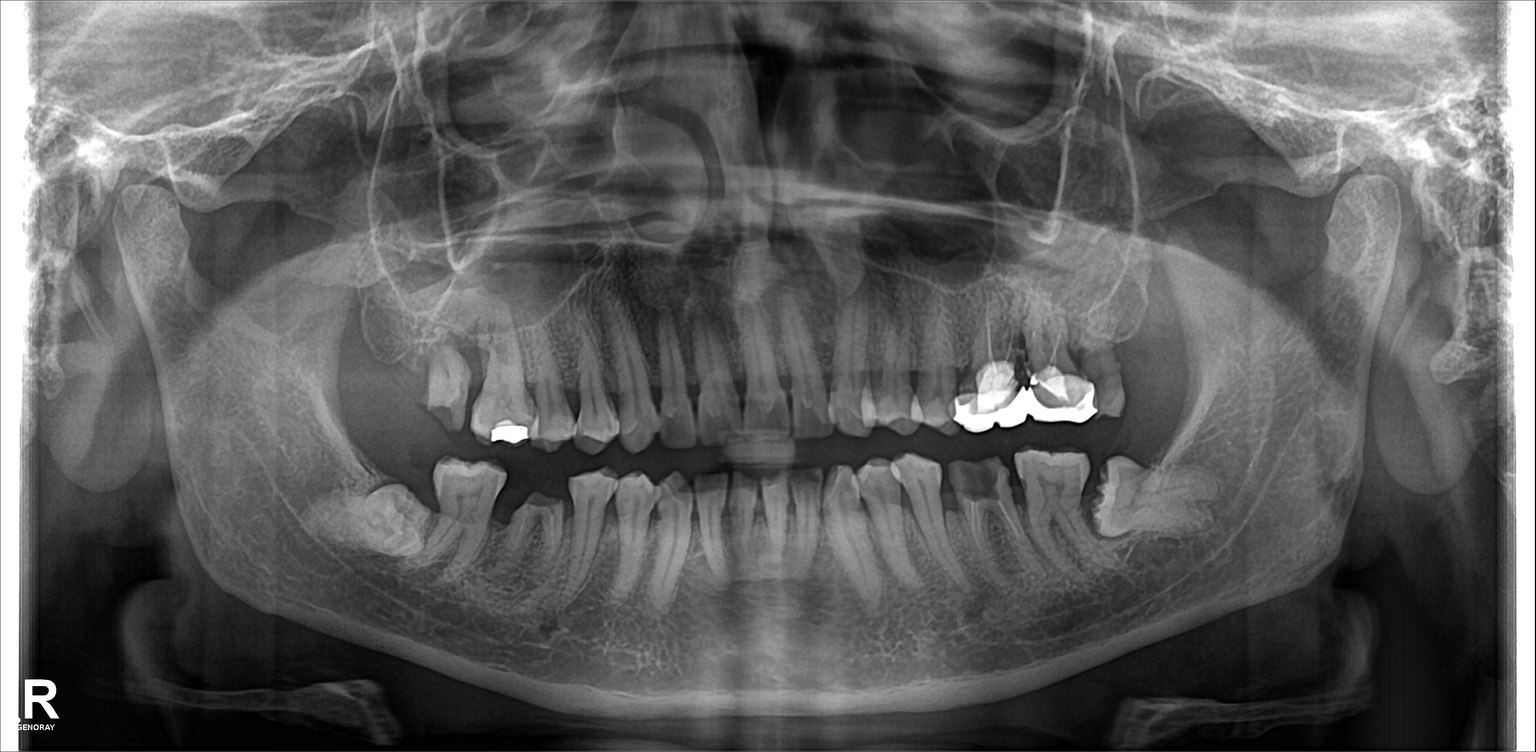Dental Caries: (948, 465, 1007, 508), (747, 396, 788, 435), (523, 514, 553, 541)
Endodontically Treated Tooth: (1021, 292, 1089, 416), (963, 289, 1025, 420)
Impacted Third Molar: (1102, 460, 1231, 536), (305, 486, 426, 551)
Missing Tooth: (1112, 290, 1183, 405), (339, 315, 380, 426), (380, 320, 419, 429)
Periapical Lesion: (960, 456, 1031, 596)
Retained Root: (415, 328, 478, 432), (510, 462, 566, 579)
